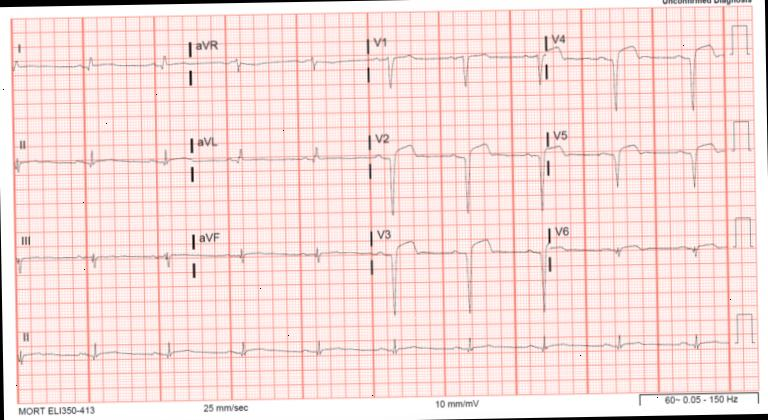Lead_I: (11, 34, 192, 104)
Lead_II: (11, 127, 193, 193)
Lead_III: (13, 223, 194, 291)
Lead_II_ext: (16, 318, 731, 380)
Lead_V1: (368, 26, 546, 98)
Lead_V2: (366, 121, 548, 224)
Lead_V3: (370, 220, 552, 328)
Lead_V4: (544, 20, 724, 120)
Lead_V5: (545, 118, 728, 198)
Lead_V6: (548, 216, 727, 281)
Lead_aVF: (193, 222, 371, 284)
Lead_aVL: (192, 126, 370, 190)
Lead_aVR: (191, 30, 369, 88)
